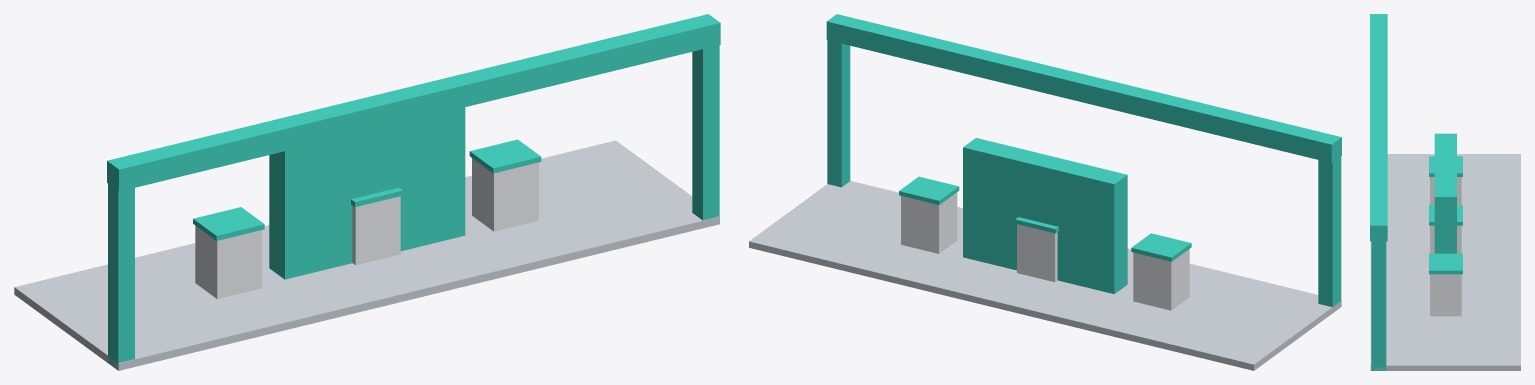
3 views of the same model, side by side, from view 1: azimuth 30°, elevation 25°; view 2: azimuth 150°, elevation 25°; view 3: azimuth 270°, elevation 25° (orthographic). The views are drawn at different scales.
Parts seen in each view (by area): view 1: Exhibition Booth Concept; view 2: Exhibition Booth Concept; view 3: Exhibition Booth Concept.
Boxes of the visible parts, x1,y1,x2,y2 form: Exhibition Booth Concept: (14,14,720,370); Exhibition Booth Concept: (749,14,1341,370); Exhibition Booth Concept: (1370,14,1520,370).
Size of the model in its own units: 10 by 3.2 by 3.01.
